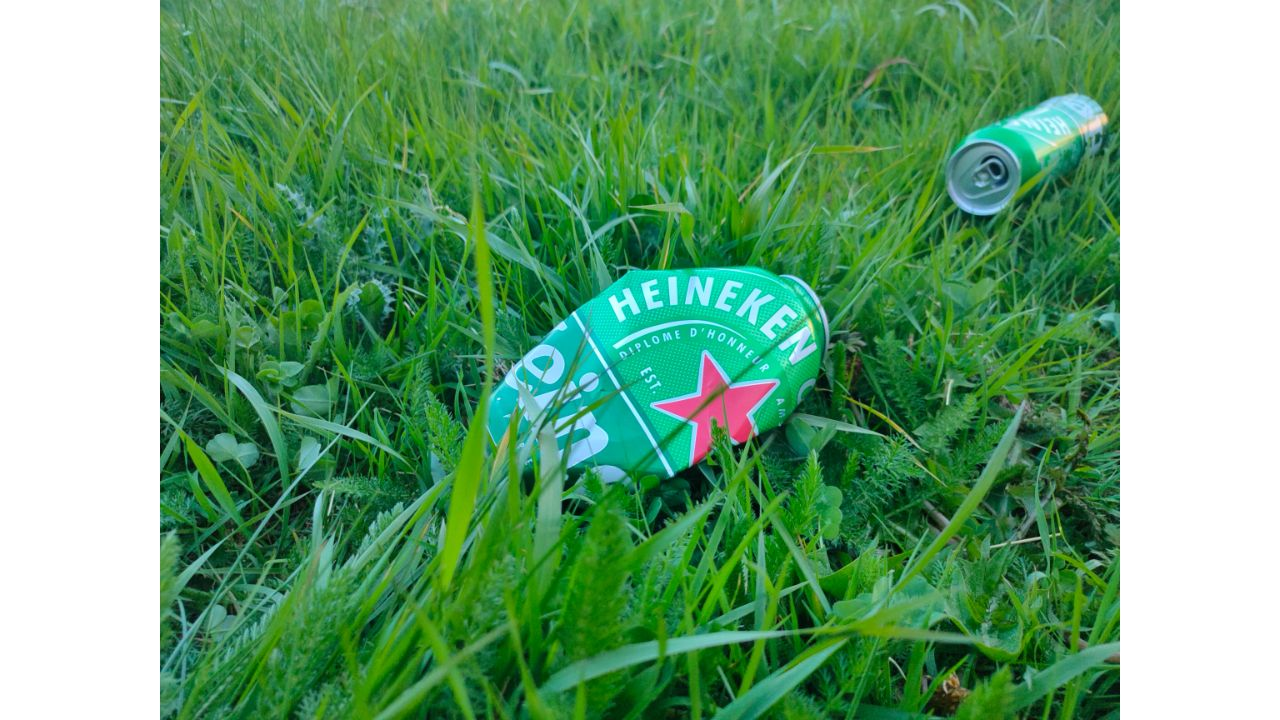Can: (465, 268, 827, 484), (947, 91, 1108, 216)
